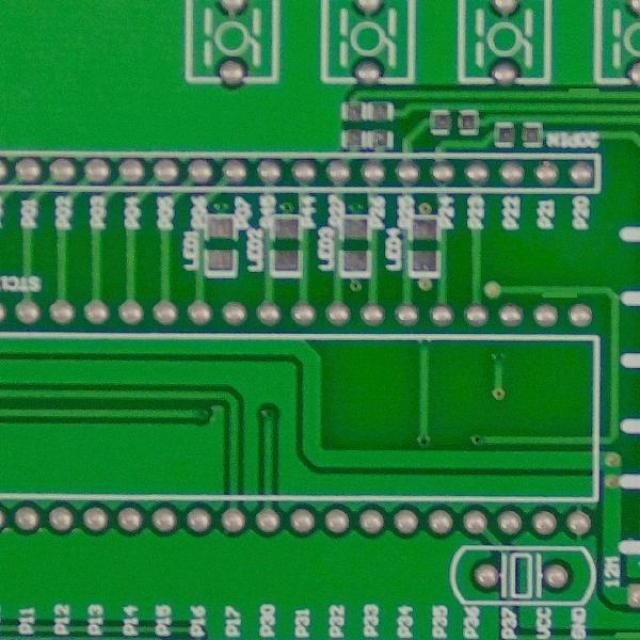spur: (534, 277, 586, 305), (563, 82, 605, 99)
